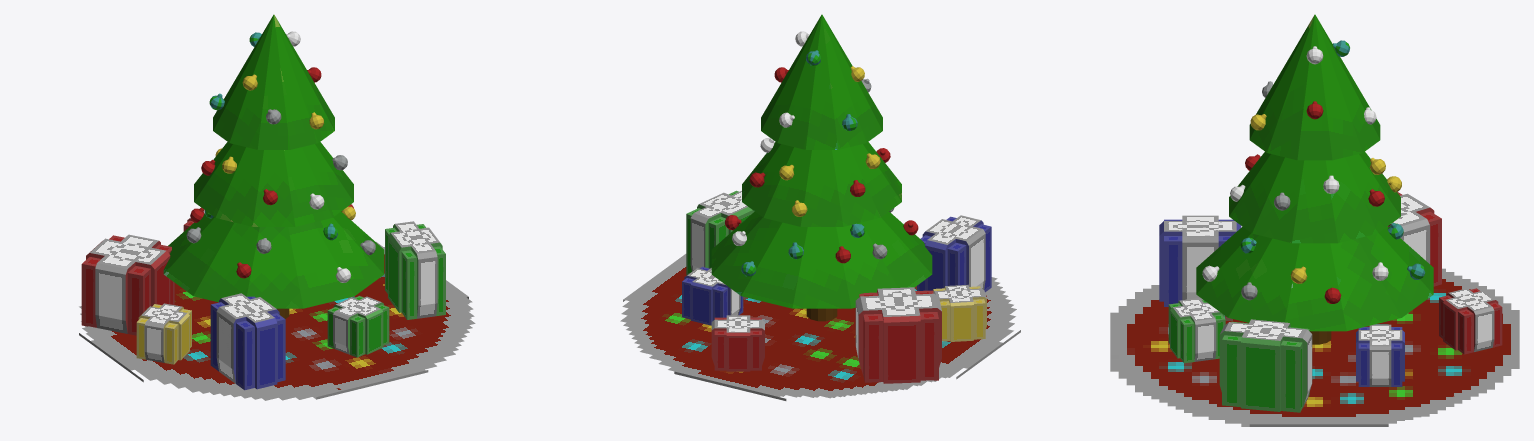
3 renders of one model, left to right at view 1: azimuth 30°, elevation 25°; view 2: azimuth 150°, elevation 25°; view 3: azimuth 270°, elevation 25°, orthographic. The views are drawn at different scales.
Parts seen in each view (by area): view 1: cube (×5), floor, lower, middle, upper; view 2: cube (×6), floor, lower, middle, upper; view 3: floor, cube (×6), lower, middle, upper.
Boxes of the visible parts, left/top/right/bottom form: cube (×5): left=81, top=221, right=445, bottom=390; floor: left=79, top=241, right=475, bottom=400; lower: left=163, top=211, right=384, bottom=308; middle: left=194, top=142, right=353, bottom=226; upper: left=213, top=14, right=334, bottom=149; cube (×6): left=682, top=190, right=991, bottom=383; floor: left=620, top=254, right=1020, bottom=400; lower: left=711, top=211, right=932, bottom=308; middle: left=742, top=142, right=901, bottom=226; upper: left=761, top=14, right=882, bottom=149; floor: left=1110, top=268, right=1519, bottom=426; cube (×6): left=1159, top=192, right=1502, bottom=412; lower: left=1196, top=226, right=1433, bottom=331; middle: left=1229, top=152, right=1400, bottom=243; upper: left=1249, top=14, right=1380, bottom=160.
Size of the model in its own units: 1.56 by 1.38 by 1.56.
Materials: 11 (11 with a texture image).
